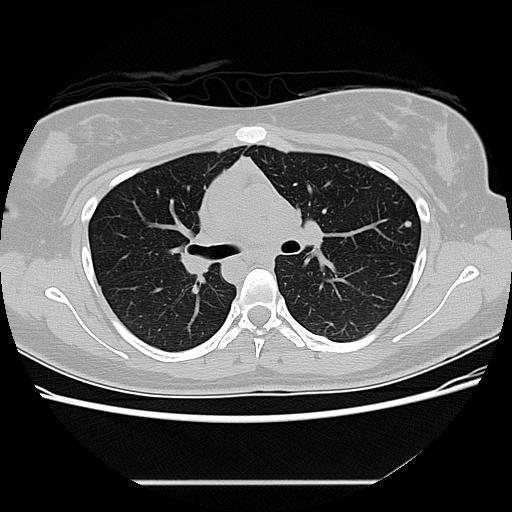nodule: (404, 217, 417, 230)
